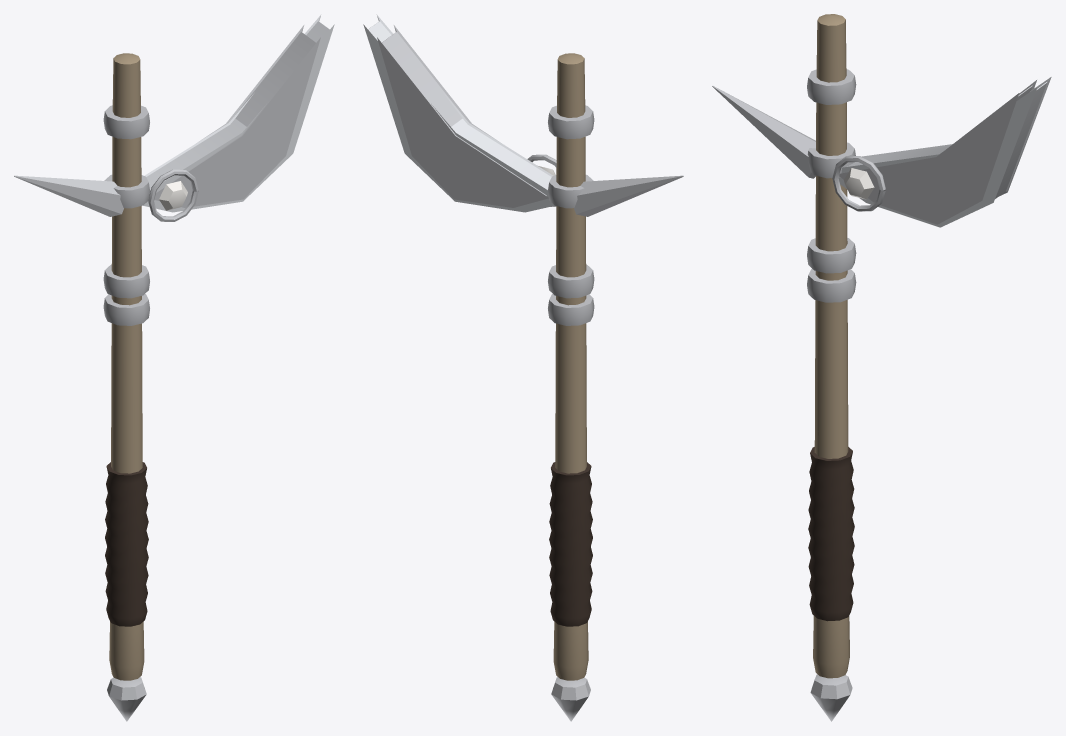
Rendered from artisan_raven_beak_axe.glb.
3 renders of one model, left to right at view 1: azimuth 30°, elevation 25°; view 2: azimuth 150°, elevation 25°; view 3: azimuth 330°, elevation 25°, orthographic. The views are drawn at different scales.
Parts seen in each view (by area): view 1: artisan_raven_beak_axe; view 2: artisan_raven_beak_axe; view 3: artisan_raven_beak_axe.
Boxes of the visible parts, x1,y1,x2,y2 form: artisan_raven_beak_axe: [14, 14, 334, 721]; artisan_raven_beak_axe: [363, 14, 683, 721]; artisan_raven_beak_axe: [712, 14, 1051, 721].
Bounding box in the file's own units: 0.4749 × 0.9636 × 0.0702.
